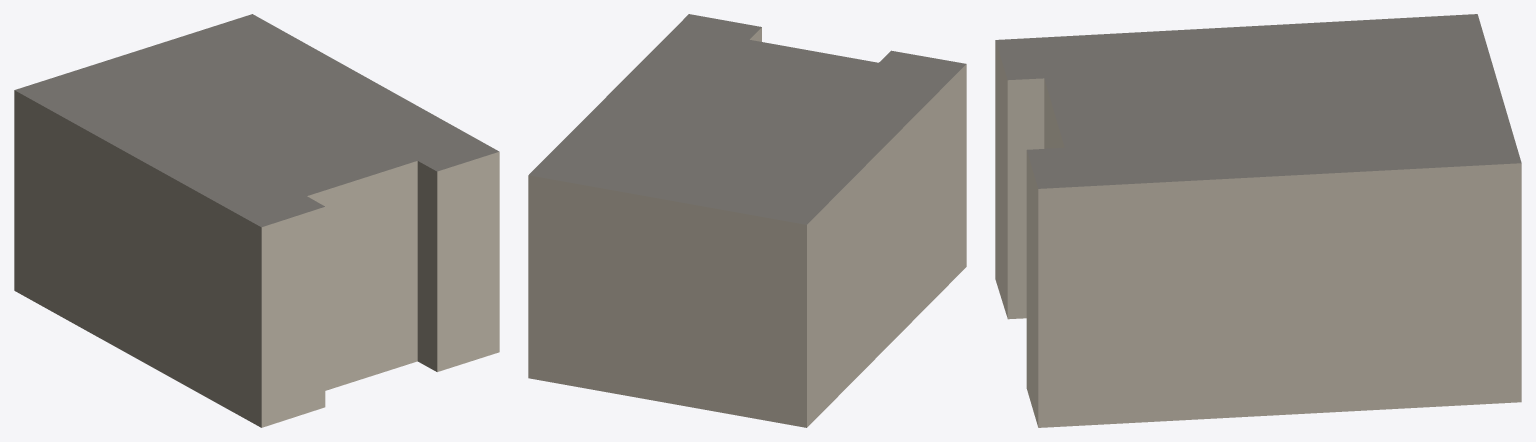
The picture shows the model from 3 angles, left to right: view 1: azimuth 30°, elevation 25°; view 2: azimuth 150°, elevation 25°; view 3: azimuth 270°, elevation 25°; orthographic projection. The views are drawn at different scales.
Visible parts, largest first — view 1: HP-w380339844; view 2: HP-w380339844; view 3: HP-w380339844.
Part boxes in pixels (left/top/right/bottom): HP-w380339844: left=14, top=14, right=499, bottom=427; HP-w380339844: left=528, top=14, right=966, bottom=427; HP-w380339844: left=995, top=14, right=1521, bottom=427.
Bounding box in the file's own units: 28.25 × 18 × 35.92.
